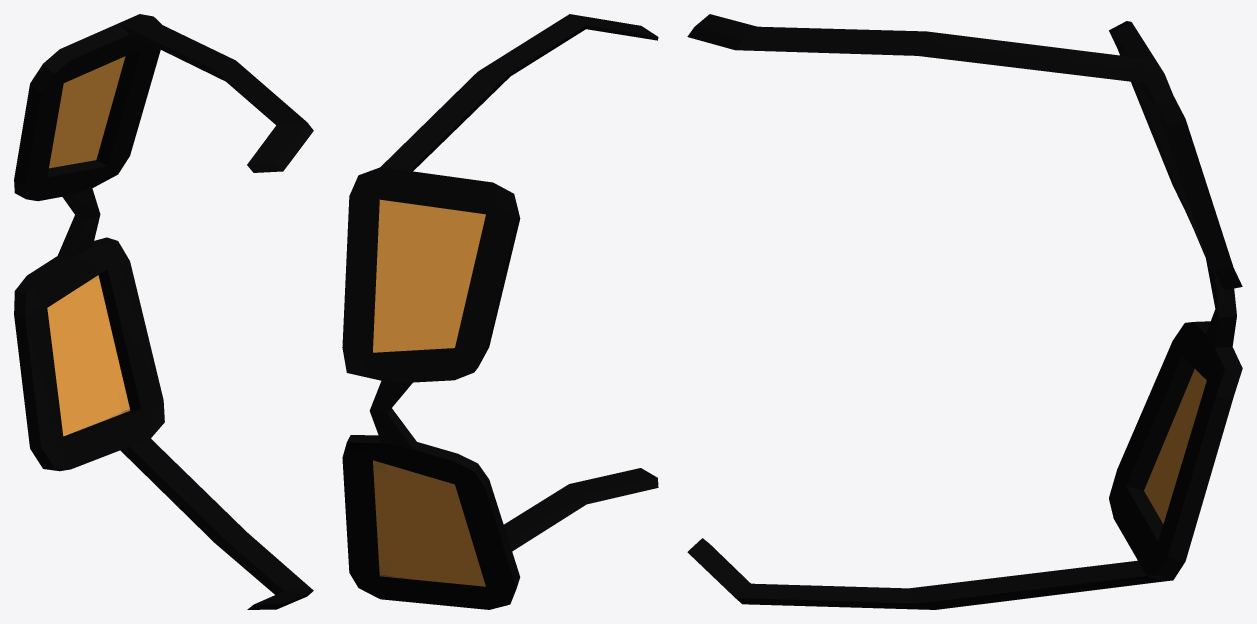
Rendered from GlassesCheese.fbx.
The picture shows the model from 3 angles, left to right: view 1: azimuth 30°, elevation 25°; view 2: azimuth 150°, elevation 25°; view 3: azimuth 270°, elevation 25°; orthographic projection. The views are drawn at different scales.
Parts seen in each view (by area): view 1: M_Glasses_Normal; view 2: M_Glasses_Normal; view 3: M_Glasses_Normal.
Part boxes in pixels (<box>): M_Glasses_Normal: <box>14,14,313,609</box>; M_Glasses_Normal: <box>342,14,658,609</box>; M_Glasses_Normal: <box>687,14,1242,609</box>.
Bounding box in the file's own units: 0.0373 × 0.1148 × 0.1024.
